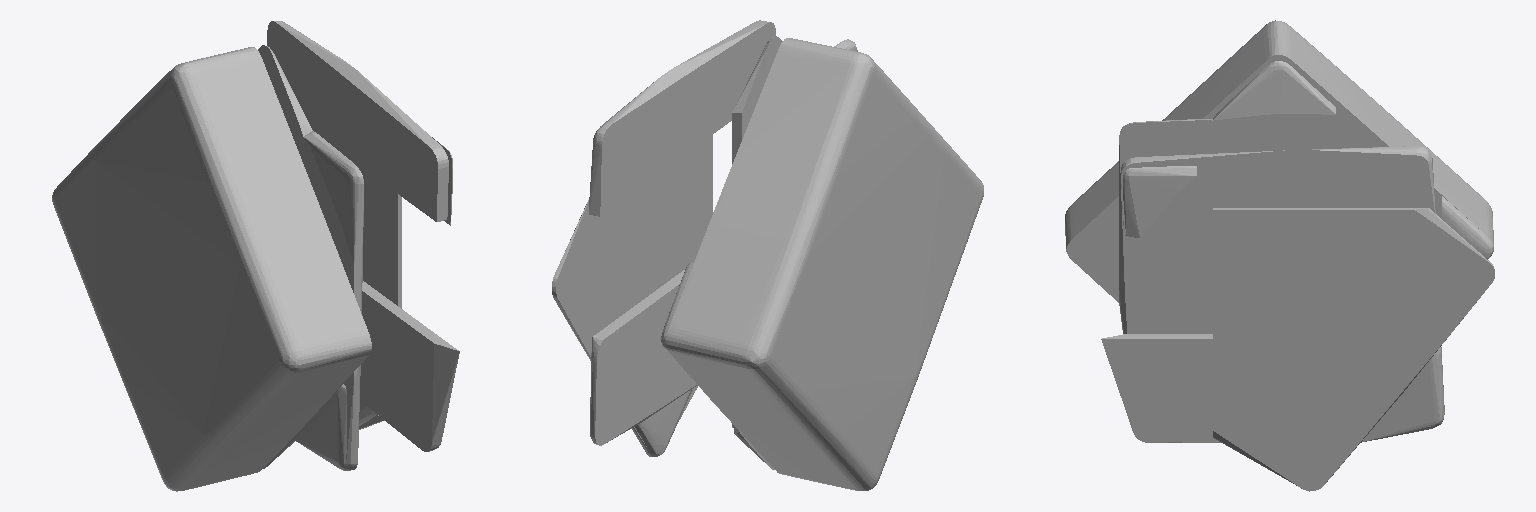
robot.urdf — root:
<robot name="root">
  <link name="link_coacd_convex_piece_0">
    <inertial>
      <origin xyz="0 0 0" rpy="0 0 0"/>
      <inertia ixx="2.83E-08" ixy="-8.25E-11" ixz="2.11E-10" iyy="3.62E-08" iyz="-1.14E-11" izz="3.63E-08"/>
    </inertial>
    <visual>
      <origin xyz="0 0 0" rpy="0 0 0"/>
      <geometry>
        <mesh filename="coacd_convex_piece_0.obj" scale="1.0000E+00 1.0000E+00 1.0000E+00"/>
      </geometry>
      <material name="">
        <color rgba="7.50E-01 7.50E-01 7.50E-01 1"/>
      </material>
    </visual>
    <collision>
      <origin xyz="0 0 0" rpy="0 0 0"/>
      <geometry>
        <mesh filename="coacd_convex_piece_0.obj" scale="1.0000E+00 1.0000E+00 1.0000E+00"/>
      </geometry>
    </collision>
  </link>
  <link name="link_coacd_convex_piece_1">
    <inertial>
      <origin xyz="0 0 0" rpy="0 0 0"/>
      <inertia ixx="2.81E-08" ixy="1.01E-10" ixz="-4.20E-10" iyy="3.62E-08" iyz="-5.10E-12" izz="3.61E-08"/>
    </inertial>
    <visual>
      <origin xyz="0 0 0" rpy="0 0 0"/>
      <geometry>
        <mesh filename="coacd_convex_piece_1.obj" scale="1.0000E+00 1.0000E+00 1.0000E+00"/>
      </geometry>
      <material name="">
        <color rgba="7.50E-01 7.50E-01 7.50E-01 1"/>
      </material>
    </visual>
    <collision>
      <origin xyz="0 0 0" rpy="0 0 0"/>
      <geometry>
        <mesh filename="coacd_convex_piece_1.obj" scale="1.0000E+00 1.0000E+00 1.0000E+00"/>
      </geometry>
    </collision>
  </link>
  <joint name="link_coacd_convex_piece_1_joint" type="fixed">
    <origin xyz="0 0 0" rpy="0 0 0"/>
    <parent link="link_coacd_convex_piece_0"/>
    <child link="link_coacd_convex_piece_1"/>
  </joint>
  <link name="link_coacd_convex_piece_2">
    <inertial>
      <origin xyz="0 0 0" rpy="0 0 0"/>
      <inertia ixx="2.41E-08" ixy="-1.90E-11" ixz="1.39E-11" iyy="1.28E-08" iyz="-2.71E-11" izz="1.28E-08"/>
    </inertial>
    <visual>
      <origin xyz="0 0 0" rpy="0 0 0"/>
      <geometry>
        <mesh filename="coacd_convex_piece_2.obj" scale="1.0000E+00 1.0000E+00 1.0000E+00"/>
      </geometry>
      <material name="">
        <color rgba="7.50E-01 7.50E-01 7.50E-01 1"/>
      </material>
    </visual>
    <collision>
      <origin xyz="0 0 0" rpy="0 0 0"/>
      <geometry>
        <mesh filename="coacd_convex_piece_2.obj" scale="1.0000E+00 1.0000E+00 1.0000E+00"/>
      </geometry>
    </collision>
  </link>
  <joint name="link_coacd_convex_piece_2_joint" type="fixed">
    <origin xyz="0 0 0" rpy="0 0 0"/>
    <parent link="link_coacd_convex_piece_1"/>
    <child link="link_coacd_convex_piece_2"/>
  </joint>
  <link name="link_coacd_convex_piece_3">
    <inertial>
      <origin xyz="0 0 0" rpy="0 0 0"/>
      <inertia ixx="9.54E-11" ixy="-1.90E-11" ixz="-2.47E-11" iyy="6.92E-11" iyz="-4.44E-11" izz="4.74E-11"/>
    </inertial>
    <visual>
      <origin xyz="0 0 0" rpy="0 0 0"/>
      <geometry>
        <mesh filename="coacd_convex_piece_3.obj" scale="1.0000E+00 1.0000E+00 1.0000E+00"/>
      </geometry>
      <material name="">
        <color rgba="7.50E-01 7.50E-01 7.50E-01 1"/>
      </material>
    </visual>
    <collision>
      <origin xyz="0 0 0" rpy="0 0 0"/>
      <geometry>
        <mesh filename="coacd_convex_piece_3.obj" scale="1.0000E+00 1.0000E+00 1.0000E+00"/>
      </geometry>
    </collision>
  </link>
  <joint name="link_coacd_convex_piece_3_joint" type="fixed">
    <origin xyz="0 0 0" rpy="0 0 0"/>
    <parent link="link_coacd_convex_piece_2"/>
    <child link="link_coacd_convex_piece_3"/>
  </joint>
  <link name="link_coacd_convex_piece_4">
    <inertial>
      <origin xyz="0 0 0" rpy="0 0 0"/>
      <inertia ixx="1.20E-09" ixy="-1.39E-12" ixz="-2.85E-10" iyy="8.75E-10" iyz="-1.14E-11" izz="5.44E-10"/>
    </inertial>
    <visual>
      <origin xyz="0 0 0" rpy="0 0 0"/>
      <geometry>
        <mesh filename="coacd_convex_piece_4.obj" scale="1.0000E+00 1.0000E+00 1.0000E+00"/>
      </geometry>
      <material name="">
        <color rgba="7.50E-01 7.50E-01 7.50E-01 1"/>
      </material>
    </visual>
    <collision>
      <origin xyz="0 0 0" rpy="0 0 0"/>
      <geometry>
        <mesh filename="coacd_convex_piece_4.obj" scale="1.0000E+00 1.0000E+00 1.0000E+00"/>
      </geometry>
    </collision>
  </link>
  <joint name="link_coacd_convex_piece_4_joint" type="fixed">
    <origin xyz="0 0 0" rpy="0 0 0"/>
    <parent link="link_coacd_convex_piece_3"/>
    <child link="link_coacd_convex_piece_4"/>
  </joint>
  <link name="link_coacd_convex_piece_5">
    <inertial>
      <origin xyz="0 0 0" rpy="0 0 0"/>
      <inertia ixx="9.36E-10" ixy="-2.71E-11" ixz="3.69E-11" iyy="1.00E-09" iyz="-2.01E-12" izz="2.80E-10"/>
    </inertial>
    <visual>
      <origin xyz="0 0 0" rpy="0 0 0"/>
      <geometry>
        <mesh filename="coacd_convex_piece_5.obj" scale="1.0000E+00 1.0000E+00 1.0000E+00"/>
      </geometry>
      <material name="">
        <color rgba="7.50E-01 7.50E-01 7.50E-01 1"/>
      </material>
    </visual>
    <collision>
      <origin xyz="0 0 0" rpy="0 0 0"/>
      <geometry>
        <mesh filename="coacd_convex_piece_5.obj" scale="1.0000E+00 1.0000E+00 1.0000E+00"/>
      </geometry>
    </collision>
  </link>
  <joint name="link_coacd_convex_piece_5_joint" type="fixed">
    <origin xyz="0 0 0" rpy="0 0 0"/>
    <parent link="link_coacd_convex_piece_4"/>
    <child link="link_coacd_convex_piece_5"/>
  </joint>
  <link name="link_coacd_convex_piece_6">
    <inertial>
      <origin xyz="0 0 0" rpy="0 0 0"/>
      <inertia ixx="1.71E-10" ixy="5.43E-11" ixz="-5.10E-14" iyy="2.04E-11" iyz="1.30E-13" izz="1.86E-10"/>
    </inertial>
    <visual>
      <origin xyz="0 0 0" rpy="0 0 0"/>
      <geometry>
        <mesh filename="coacd_convex_piece_6.obj" scale="1.0000E+00 1.0000E+00 1.0000E+00"/>
      </geometry>
      <material name="">
        <color rgba="7.50E-01 7.50E-01 7.50E-01 1"/>
      </material>
    </visual>
    <collision>
      <origin xyz="0 0 0" rpy="0 0 0"/>
      <geometry>
        <mesh filename="coacd_convex_piece_6.obj" scale="1.0000E+00 1.0000E+00 1.0000E+00"/>
      </geometry>
    </collision>
  </link>
  <joint name="link_coacd_convex_piece_6_joint" type="fixed">
    <origin xyz="0 0 0" rpy="0 0 0"/>
    <parent link="link_coacd_convex_piece_5"/>
    <child link="link_coacd_convex_piece_6"/>
  </joint>
  <link name="link_coacd_convex_piece_7">
    <inertial>
      <origin xyz="0 0 0" rpy="0 0 0"/>
      <inertia ixx="1.27E-09" ixy="3.01E-10" ixz="1.22E-12" iyy="6.42E-10" iyz="6.48E-12" izz="8.88E-10"/>
    </inertial>
    <visual>
      <origin xyz="0 0 0" rpy="0 0 0"/>
      <geometry>
        <mesh filename="coacd_convex_piece_7.obj" scale="1.0000E+00 1.0000E+00 1.0000E+00"/>
      </geometry>
      <material name="">
        <color rgba="7.50E-01 7.50E-01 7.50E-01 1"/>
      </material>
    </visual>
    <collision>
      <origin xyz="0 0 0" rpy="0 0 0"/>
      <geometry>
        <mesh filename="coacd_convex_piece_7.obj" scale="1.0000E+00 1.0000E+00 1.0000E+00"/>
      </geometry>
    </collision>
  </link>
  <joint name="link_coacd_convex_piece_7_joint" type="fixed">
    <origin xyz="0 0 0" rpy="0 0 0"/>
    <parent link="link_coacd_convex_piece_6"/>
    <child link="link_coacd_convex_piece_7"/>
  </joint>
  <link name="link_coacd_convex_piece_8">
    <inertial>
      <origin xyz="0 0 0" rpy="0 0 0"/>
      <inertia ixx="1.09E-09" ixy="-2.27E-10" ixz="1.51E-10" iyy="6.49E-10" iyz="6.82E-11" izz="8.45E-10"/>
    </inertial>
    <visual>
      <origin xyz="0 0 0" rpy="0 0 0"/>
      <geometry>
        <mesh filename="coacd_convex_piece_8.obj" scale="1.0000E+00 1.0000E+00 1.0000E+00"/>
      </geometry>
      <material name="">
        <color rgba="7.50E-01 7.50E-01 7.50E-01 1"/>
      </material>
    </visual>
    <collision>
      <origin xyz="0 0 0" rpy="0 0 0"/>
      <geometry>
        <mesh filename="coacd_convex_piece_8.obj" scale="1.0000E+00 1.0000E+00 1.0000E+00"/>
      </geometry>
    </collision>
  </link>
  <joint name="link_coacd_convex_piece_8_joint" type="fixed">
    <origin xyz="0 0 0" rpy="0 0 0"/>
    <parent link="link_coacd_convex_piece_7"/>
    <child link="link_coacd_convex_piece_8"/>
  </joint>
  <link name="link_coacd_convex_piece_9">
    <inertial>
      <origin xyz="0 0 0" rpy="0 0 0"/>
      <inertia ixx="1.18E-09" ixy="3.66E-10" ixz="-1.04E-11" iyy="5.89E-10" iyz="2.76E-11" izz="9.56E-10"/>
    </inertial>
    <visual>
      <origin xyz="0 0 0" rpy="0 0 0"/>
      <geometry>
        <mesh filename="coacd_convex_piece_9.obj" scale="1.0000E+00 1.0000E+00 1.0000E+00"/>
      </geometry>
      <material name="">
        <color rgba="7.50E-01 7.50E-01 7.50E-01 1"/>
      </material>
    </visual>
    <collision>
      <origin xyz="0 0 0" rpy="0 0 0"/>
      <geometry>
        <mesh filename="coacd_convex_piece_9.obj" scale="1.0000E+00 1.0000E+00 1.0000E+00"/>
      </geometry>
    </collision>
  </link>
  <joint name="link_coacd_convex_piece_9_joint" type="fixed">
    <origin xyz="0 0 0" rpy="0 0 0"/>
    <parent link="link_coacd_convex_piece_8"/>
    <child link="link_coacd_convex_piece_9"/>
  </joint>
  <link name="link_coacd_convex_piece_10">
    <inertial>
      <origin xyz="0 0 0" rpy="0 0 0"/>
      <inertia ixx="1.19E-09" ixy="-2.84E-10" ixz="-1.30E-11" iyy="5.41E-10" iyz="-2.81E-11" izz="8.70E-10"/>
    </inertial>
    <visual>
      <origin xyz="0 0 0" rpy="0 0 0"/>
      <geometry>
        <mesh filename="coacd_convex_piece_10.obj" scale="1.0000E+00 1.0000E+00 1.0000E+00"/>
      </geometry>
      <material name="">
        <color rgba="7.50E-01 7.50E-01 7.50E-01 1"/>
      </material>
    </visual>
    <collision>
      <origin xyz="0 0 0" rpy="0 0 0"/>
      <geometry>
        <mesh filename="coacd_convex_piece_10.obj" scale="1.0000E+00 1.0000E+00 1.0000E+00"/>
      </geometry>
    </collision>
  </link>
  <joint name="link_coacd_convex_piece_10_joint" type="fixed">
    <origin xyz="0 0 0" rpy="0 0 0"/>
    <parent link="link_coacd_convex_piece_9"/>
    <child link="link_coacd_convex_piece_10"/>
  </joint>
  <link name="link_coacd_convex_piece_11">
    <inertial>
      <origin xyz="0 0 0" rpy="0 0 0"/>
      <inertia ixx="1.58E-09" ixy="-7.19E-12" ixz="2.31E-10" iyy="9.61E-10" iyz="-1.25E-11" izz="1.31E-09"/>
    </inertial>
    <visual>
      <origin xyz="0 0 0" rpy="0 0 0"/>
      <geometry>
        <mesh filename="coacd_convex_piece_11.obj" scale="1.0000E+00 1.0000E+00 1.0000E+00"/>
      </geometry>
      <material name="">
        <color rgba="7.50E-01 7.50E-01 7.50E-01 1"/>
      </material>
    </visual>
    <collision>
      <origin xyz="0 0 0" rpy="0 0 0"/>
      <geometry>
        <mesh filename="coacd_convex_piece_11.obj" scale="1.0000E+00 1.0000E+00 1.0000E+00"/>
      </geometry>
    </collision>
  </link>
  <joint name="link_coacd_convex_piece_11_joint" type="fixed">
    <origin xyz="0 0 0" rpy="0 0 0"/>
    <parent link="link_coacd_convex_piece_10"/>
    <child link="link_coacd_convex_piece_11"/>
  </joint>
  <link name="link_coacd_convex_piece_12">
    <inertial>
      <origin xyz="0 0 0" rpy="0 0 0"/>
      <inertia ixx="1.55E-09" ixy="-2.26E-10" ixz="-7.95E-12" iyy="1.30E-09" iyz="-7.59E-12" izz="9.44E-10"/>
    </inertial>
    <visual>
      <origin xyz="0 0 0" rpy="0 0 0"/>
      <geometry>
        <mesh filename="coacd_convex_piece_12.obj" scale="1.0000E+00 1.0000E+00 1.0000E+00"/>
      </geometry>
      <material name="">
        <color rgba="7.50E-01 7.50E-01 7.50E-01 1"/>
      </material>
    </visual>
    <collision>
      <origin xyz="0 0 0" rpy="0 0 0"/>
      <geometry>
        <mesh filename="coacd_convex_piece_12.obj" scale="1.0000E+00 1.0000E+00 1.0000E+00"/>
      </geometry>
    </collision>
  </link>
  <joint name="link_coacd_convex_piece_12_joint" type="fixed">
    <origin xyz="0 0 0" rpy="0 0 0"/>
    <parent link="link_coacd_convex_piece_11"/>
    <child link="link_coacd_convex_piece_12"/>
  </joint>
  <link name="link_coacd_convex_piece_13">
    <inertial>
      <origin xyz="0 0 0" rpy="0 0 0"/>
      <inertia ixx="1.59E-09" ixy="1.67E-11" ixz="3.69E-10" iyy="1.10E-09" iyz="-3.93E-11" izz="8.12E-10"/>
    </inertial>
    <visual>
      <origin xyz="0 0 0" rpy="0 0 0"/>
      <geometry>
        <mesh filename="coacd_convex_piece_13.obj" scale="1.0000E+00 1.0000E+00 1.0000E+00"/>
      </geometry>
      <material name="">
        <color rgba="7.50E-01 7.50E-01 7.50E-01 1"/>
      </material>
    </visual>
    <collision>
      <origin xyz="0 0 0" rpy="0 0 0"/>
      <geometry>
        <mesh filename="coacd_convex_piece_13.obj" scale="1.0000E+00 1.0000E+00 1.0000E+00"/>
      </geometry>
    </collision>
  </link>
  <joint name="link_coacd_convex_piece_13_joint" type="fixed">
    <origin xyz="0 0 0" rpy="0 0 0"/>
    <parent link="link_coacd_convex_piece_12"/>
    <child link="link_coacd_convex_piece_13"/>
  </joint>
  <link name="link_coacd_convex_piece_14">
    <inertial>
      <origin xyz="0 0 0" rpy="0 0 0"/>
      <inertia ixx="1.52E-10" ixy="4.11E-11" ixz="-3.63E-11" iyy="8.75E-11" iyz="7.31E-11" izz="1.06E-10"/>
    </inertial>
    <visual>
      <origin xyz="0 0 0" rpy="0 0 0"/>
      <geometry>
        <mesh filename="coacd_convex_piece_14.obj" scale="1.0000E+00 1.0000E+00 1.0000E+00"/>
      </geometry>
      <material name="">
        <color rgba="7.50E-01 7.50E-01 7.50E-01 1"/>
      </material>
    </visual>
    <collision>
      <origin xyz="0 0 0" rpy="0 0 0"/>
      <geometry>
        <mesh filename="coacd_convex_piece_14.obj" scale="1.0000E+00 1.0000E+00 1.0000E+00"/>
      </geometry>
    </collision>
  </link>
  <joint name="link_coacd_convex_piece_14_joint" type="fixed">
    <origin xyz="0 0 0" rpy="0 0 0"/>
    <parent link="link_coacd_convex_piece_13"/>
    <child link="link_coacd_convex_piece_14"/>
  </joint>
  <link name="link_coacd_convex_piece_15">
    <inertial>
      <origin xyz="0 0 0" rpy="0 0 0"/>
      <inertia ixx="9.15E-11" ixy="-3.06E-12" ixz="2.37E-11" iyy="9.51E-11" iyz="1.15E-11" izz="9.17E-12"/>
    </inertial>
    <visual>
      <origin xyz="0 0 0" rpy="0 0 0"/>
      <geometry>
        <mesh filename="coacd_convex_piece_15.obj" scale="1.0000E+00 1.0000E+00 1.0000E+00"/>
      </geometry>
      <material name="">
        <color rgba="7.50E-01 7.50E-01 7.50E-01 1"/>
      </material>
    </visual>
    <collision>
      <origin xyz="0 0 0" rpy="0 0 0"/>
      <geometry>
        <mesh filename="coacd_convex_piece_15.obj" scale="1.0000E+00 1.0000E+00 1.0000E+00"/>
      </geometry>
    </collision>
  </link>
  <joint name="link_coacd_convex_piece_15_joint" type="fixed">
    <origin xyz="0 0 0" rpy="0 0 0"/>
    <parent link="link_coacd_convex_piece_14"/>
    <child link="link_coacd_convex_piece_15"/>
  </joint>
  <link name="link_coacd_convex_piece_16">
    <inertial>
      <origin xyz="0 0 0" rpy="0 0 0"/>
      <inertia ixx="6.50E-11" ixy="1.87E-11" ixz="2.59E-12" iyy="7.67E-12" iyz="-8.74E-12" izz="6.85E-11"/>
    </inertial>
    <visual>
      <origin xyz="0 0 0" rpy="0 0 0"/>
      <geometry>
        <mesh filename="coacd_convex_piece_16.obj" scale="1.0000E+00 1.0000E+00 1.0000E+00"/>
      </geometry>
      <material name="">
        <color rgba="7.50E-01 7.50E-01 7.50E-01 1"/>
      </material>
    </visual>
    <collision>
      <origin xyz="0 0 0" rpy="0 0 0"/>
      <geometry>
        <mesh filename="coacd_convex_piece_16.obj" scale="1.0000E+00 1.0000E+00 1.0000E+00"/>
      </geometry>
    </collision>
  </link>
  <joint name="link_coacd_convex_piece_16_joint" type="fixed">
    <origin xyz="0 0 0" rpy="0 0 0"/>
    <parent link="link_coacd_convex_piece_15"/>
    <child link="link_coacd_convex_piece_16"/>
  </joint>
  <link name="link_coacd_convex_piece_17">
    <inertial>
      <origin xyz="0 0 0" rpy="0 0 0"/>
      <inertia ixx="1.62E-10" ixy="4.38E-12" ixz="-5.71E-11" iyy="1.75E-10" iyz="1.19E-11" izz="3.08E-11"/>
    </inertial>
    <visual>
      <origin xyz="0 0 0" rpy="0 0 0"/>
      <geometry>
        <mesh filename="coacd_convex_piece_17.obj" scale="1.0000E+00 1.0000E+00 1.0000E+00"/>
      </geometry>
      <material name="">
        <color rgba="7.50E-01 7.50E-01 7.50E-01 1"/>
      </material>
    </visual>
    <collision>
      <origin xyz="0 0 0" rpy="0 0 0"/>
      <geometry>
        <mesh filename="coacd_convex_piece_17.obj" scale="1.0000E+00 1.0000E+00 1.0000E+00"/>
      </geometry>
    </collision>
  </link>
  <joint name="link_coacd_convex_piece_17_joint" type="fixed">
    <origin xyz="0 0 0" rpy="0 0 0"/>
    <parent link="link_coacd_convex_piece_16"/>
    <child link="link_coacd_convex_piece_17"/>
  </joint>
  <link name="link_coacd_convex_piece_18">
    <inertial>
      <origin xyz="0 0 0" rpy="0 0 0"/>
      <inertia ixx="7.27E-10" ixy="-1.27E-10" ixz="8.69E-11" iyy="5.14E-10" iyz="1.46E-11" izz="5.02E-10"/>
    </inertial>
    <visual>
      <origin xyz="0 0 0" rpy="0 0 0"/>
      <geometry>
        <mesh filename="coacd_convex_piece_18.obj" scale="1.0000E+00 1.0000E+00 1.0000E+00"/>
      </geometry>
      <material name="">
        <color rgba="7.50E-01 7.50E-01 7.50E-01 1"/>
      </material>
    </visual>
    <collision>
      <origin xyz="0 0 0" rpy="0 0 0"/>
      <geometry>
        <mesh filename="coacd_convex_piece_18.obj" scale="1.0000E+00 1.0000E+00 1.0000E+00"/>
      </geometry>
    </collision>
  </link>
  <joint name="link_coacd_convex_piece_18_joint" type="fixed">
    <origin xyz="0 0 0" rpy="0 0 0"/>
    <parent link="link_coacd_convex_piece_17"/>
    <child link="link_coacd_convex_piece_18"/>
  </joint>
  <link name="link_coacd_convex_piece_19">
    <inertial>
      <origin xyz="0 0 0" rpy="0 0 0"/>
      <inertia ixx="2.43E-10" ixy="1.73E-12" ixz="-8.72E-11" iyy="2.63E-10" iyz="3.57E-12" izz="5.18E-11"/>
    </inertial>
    <visual>
      <origin xyz="0 0 0" rpy="0 0 0"/>
      <geometry>
        <mesh filename="coacd_convex_piece_19.obj" scale="1.0000E+00 1.0000E+00 1.0000E+00"/>
      </geometry>
      <material name="">
        <color rgba="7.50E-01 7.50E-01 7.50E-01 1"/>
      </material>
    </visual>
    <collision>
      <origin xyz="0 0 0" rpy="0 0 0"/>
      <geometry>
        <mesh filename="coacd_convex_piece_19.obj" scale="1.0000E+00 1.0000E+00 1.0000E+00"/>
      </geometry>
    </collision>
  </link>
  <joint name="link_coacd_convex_piece_19_joint" type="fixed">
    <origin xyz="0 0 0" rpy="0 0 0"/>
    <parent link="link_coacd_convex_piece_18"/>
    <child link="link_coacd_convex_piece_19"/>
  </joint>
  <link name="link_coacd_convex_piece_20">
    <inertial>
      <origin xyz="0 0 0" rpy="0 0 0"/>
      <inertia ixx="4.78E-10" ixy="1.37E-10" ixz="-1.10E-12" iyy="2.33E-10" iyz="3.61E-12" izz="3.72E-10"/>
    </inertial>
    <visual>
      <origin xyz="0 0 0" rpy="0 0 0"/>
      <geometry>
        <mesh filename="coacd_convex_piece_20.obj" scale="1.0000E+00 1.0000E+00 1.0000E+00"/>
      </geometry>
      <material name="">
        <color rgba="7.50E-01 7.50E-01 7.50E-01 1"/>
      </material>
    </visual>
    <collision>
      <origin xyz="0 0 0" rpy="0 0 0"/>
      <geometry>
        <mesh filename="coacd_convex_piece_20.obj" scale="1.0000E+00 1.0000E+00 1.0000E+00"/>
      </geometry>
    </collision>
  </link>
  <joint name="link_coacd_convex_piece_20_joint" type="fixed">
    <origin xyz="0 0 0" rpy="0 0 0"/>
    <parent link="link_coacd_convex_piece_19"/>
    <child link="link_coacd_convex_piece_20"/>
  </joint>
  <link name="link_coacd_convex_piece_21">
    <inertial>
      <origin xyz="0 0 0" rpy="0 0 0"/>
      <inertia ixx="2.34E-10" ixy="-8.55E-12" ixz="-1.32E-11" iyy="7.27E-11" iyz="-5.01E-12" izz="2.54E-10"/>
    </inertial>
    <visual>
      <origin xyz="0 0 0" rpy="0 0 0"/>
      <geometry>
        <mesh filename="coacd_convex_piece_21.obj" scale="1.0000E+00 1.0000E+00 1.0000E+00"/>
      </geometry>
      <material name="">
        <color rgba="7.50E-01 7.50E-01 7.50E-01 1"/>
      </material>
    </visual>
    <collision>
      <origin xyz="0 0 0" rpy="0 0 0"/>
      <geometry>
        <mesh filename="coacd_convex_piece_21.obj" scale="1.0000E+00 1.0000E+00 1.0000E+00"/>
      </geometry>
    </collision>
  </link>
  <joint name="link_coacd_convex_piece_21_joint" type="fixed">
    <origin xyz="0 0 0" rpy="0 0 0"/>
    <parent link="link_coacd_convex_piece_20"/>
    <child link="link_coacd_convex_piece_21"/>
  </joint>
  <link name="link_coacd_convex_piece_22">
    <inertial>
      <origin xyz="0 0 0" rpy="0 0 0"/>
      <inertia ixx="5.62E-10" ixy="-2.25E-11" ixz="-2.05E-10" iyy="5.55E-10" iyz="-2.77E-11" izz="2.07E-10"/>
    </inertial>
    <visual>
      <origin xyz="0 0 0" rpy="0 0 0"/>
      <geometry>
        <mesh filename="coacd_convex_piece_22.obj" scale="1.0000E+00 1.0000E+00 1.0000E+00"/>
      </geometry>
      <material name="">
        <color rgba="7.50E-01 7.50E-01 7.50E-01 1"/>
      </material>
    </visual>
    <collision>
      <origin xyz="0 0 0" rpy="0 0 0"/>
      <geometry>
        <mesh filename="coacd_convex_piece_22.obj" scale="1.0000E+00 1.0000E+00 1.0000E+00"/>
      </geometry>
    </collision>
  </link>
  <joint name="link_coacd_convex_piece_22_joint" type="fixed">
    <origin xyz="0 0 0" rpy="0 0 0"/>
    <parent link="link_coacd_convex_piece_21"/>
    <child link="link_coacd_convex_piece_22"/>
  </joint>
  <link name="link_coacd_convex_piece_23">
    <inertial>
      <origin xyz="0 0 0" rpy="0 0 0"/>
      <inertia ixx="1.54E-10" ixy="-3.33E-11" ixz="-3.75E-11" iyy="1.03E-10" iyz="-7.23E-11" izz="8.53E-11"/>
    </inertial>
    <visual>
      <origin xyz="0 0 0" rpy="0 0 0"/>
      <geometry>
        <mesh filename="coacd_convex_piece_23.obj" scale="1.0000E+00 1.0000E+00 1.0000E+00"/>
      </geometry>
      <material name="">
        <color rgba="7.50E-01 7.50E-01 7.50E-01 1"/>
      </material>
    </visual>
    <collision>
      <origin xyz="0 0 0" rpy="0 0 0"/>
      <geometry>
        <mesh filename="coacd_convex_piece_23.obj" scale="1.0000E+00 1.0000E+00 1.0000E+00"/>
      </geometry>
    </collision>
  </link>
  <joint name="link_coacd_convex_piece_23_joint" type="fixed">
    <origin xyz="0 0 0" rpy="0 0 0"/>
    <parent link="link_coacd_convex_piece_22"/>
    <child link="link_coacd_convex_piece_23"/>
  </joint>
  <link name="link_coacd_convex_piece_24">
    <inertial>
      <origin xyz="0 0 0" rpy="0 0 0"/>
      <inertia ixx="8.59E-10" ixy="-4.24E-11" ixz="-4.97E-11" iyy="2.58E-10" iyz="-1.61E-11" izz="8.95E-10"/>
    </inertial>
    <visual>
      <origin xyz="0 0 0" rpy="0 0 0"/>
      <geometry>
        <mesh filename="coacd_convex_piece_24.obj" scale="1.0000E+00 1.0000E+00 1.0000E+00"/>
      </geometry>
      <material name="">
        <color rgba="7.50E-01 7.50E-01 7.50E-01 1"/>
      </material>
    </visual>
    <collision>
      <origin xyz="0 0 0" rpy="0 0 0"/>
      <geometry>
        <mesh filename="coacd_convex_piece_24.obj" scale="1.0000E+00 1.0000E+00 1.0000E+00"/>
      </geometry>
    </collision>
  </link>
  <joint name="link_coacd_convex_piece_24_joint" type="fixed">
    <origin xyz="0 0 0" rpy="0 0 0"/>
    <parent link="link_coacd_convex_piece_23"/>
    <child link="link_coacd_convex_piece_24"/>
  </joint>
</robot>

--- Facts derived from the render (not from the file) ---
3 views of the same robot in one strip: view 1: azimuth 30°, elevation 25°; view 2: azimuth 150°, elevation 25°; view 3: azimuth 270°, elevation 25° (orthographic).
Robot: root — 25 links, 24 joints (24 fixed); root link link_coacd_convex_piece_0; default pose: all joints at 0.
Links seen in each view (by area): view 1: link_coacd_convex_piece_1, link_coacd_convex_piece_4, link_coacd_convex_piece_13, link_coacd_convex_piece_10, link_coacd_convex_piece_18, link_coacd_convex_piece_23, link_coacd_convex_piece_5; view 2: link_coacd_convex_piece_1, link_coacd_convex_piece_18, link_coacd_convex_piece_4, link_coacd_convex_piece_13, link_coacd_convex_piece_5, link_coacd_convex_piece_15; view 3: link_coacd_convex_piece_18, link_coacd_convex_piece_1, link_coacd_convex_piece_4, link_coacd_convex_piece_13, link_coacd_convex_piece_10, link_coacd_convex_piece_5, link_coacd_convex_piece_14, link_coacd_convex_piece_6.
Link boxes in pixels (<box>): link_coacd_convex_piece_1: <box>52,47,371,491</box>; link_coacd_convex_piece_4: <box>267,21,448,221</box>; link_coacd_convex_piece_13: <box>360,281,459,451</box>; link_coacd_convex_piece_10: <box>303,131,363,470</box>; link_coacd_convex_piece_18: <box>342,153,401,429</box>; link_coacd_convex_piece_23: <box>294,384,346,469</box>; link_coacd_convex_piece_5: <box>258,45,312,161</box>; link_coacd_convex_piece_1: <box>665,38,983,490</box>; link_coacd_convex_piece_18: <box>552,135,712,456</box>; link_coacd_convex_piece_4: <box>589,20,775,216</box>; link_coacd_convex_piece_13: <box>590,270,696,445</box>; link_coacd_convex_piece_5: <box>732,36,782,427</box>; link_coacd_convex_piece_15: <box>635,389,691,456</box>; link_coacd_convex_piece_18: <box>1213,208,1494,491</box>; link_coacd_convex_piece_1: <box>1065,20,1493,302</box>; link_coacd_convex_piece_4: <box>1121,146,1435,225</box>; link_coacd_convex_piece_13: <box>1101,334,1444,442</box>; link_coacd_convex_piece_10: <box>1119,119,1212,333</box>; link_coacd_convex_piece_5: <box>1213,61,1335,153</box>; link_coacd_convex_piece_14: <box>1123,166,1196,238</box>; link_coacd_convex_piece_6: <box>1442,196,1493,259</box>.
Size in the robot's own frame: 0.0407 by 0.0788 by 0.0788 metres.
Meshes: 25 distinct files referenced, 11 mesh visuals loaded (11 OBJ); not drawn: 14 (reference not matched to a file when rendering).